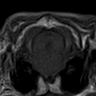Brain: (25, 28, 74, 74)
